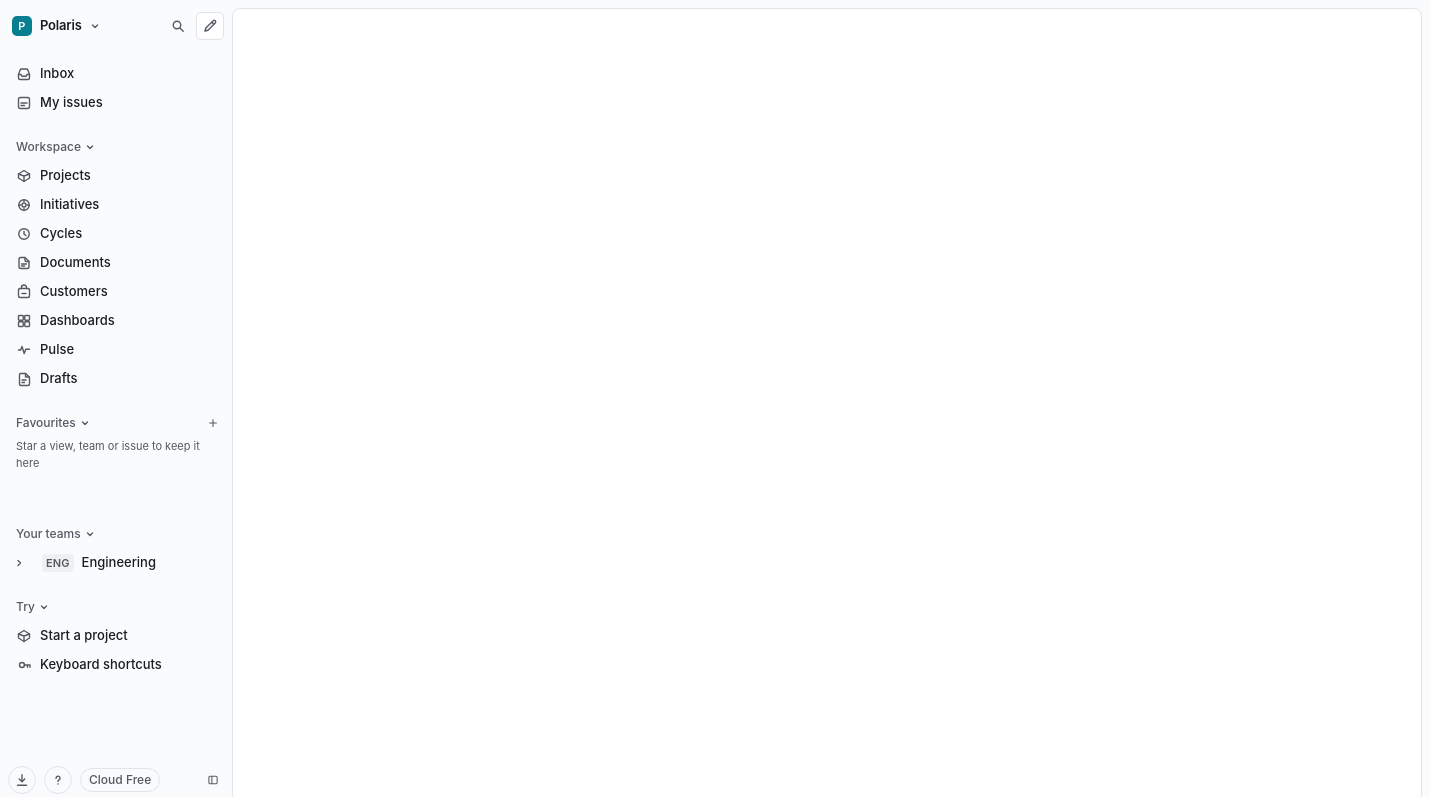
Test: a team’s cycles, opened › draws neither row for a team with no cycle to go to
Click the button named "Expand Engineering": (19, 563) [8,552,30,574]
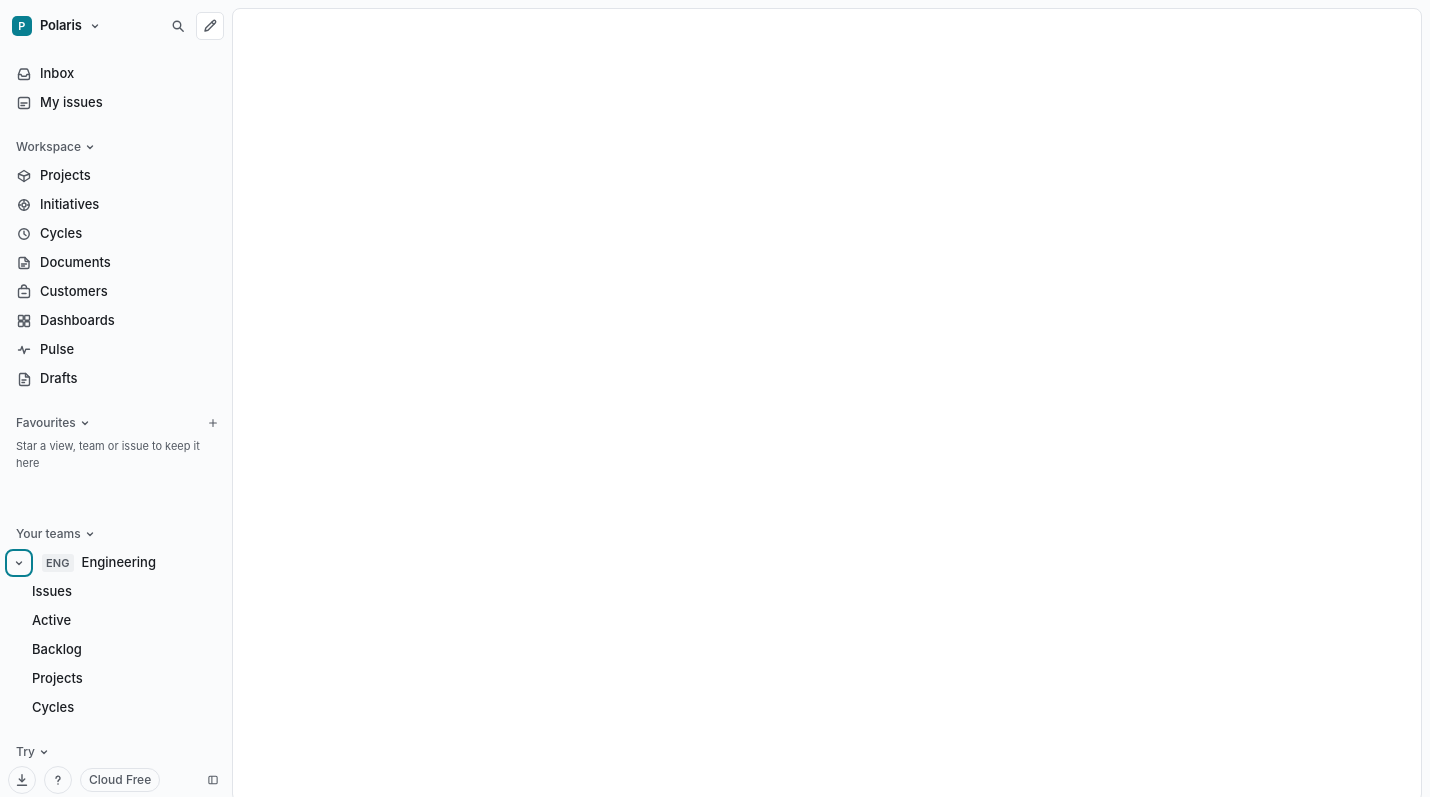
Expected: the link "Cycles" below "Backlog" is shown, [32,699,74,715]
